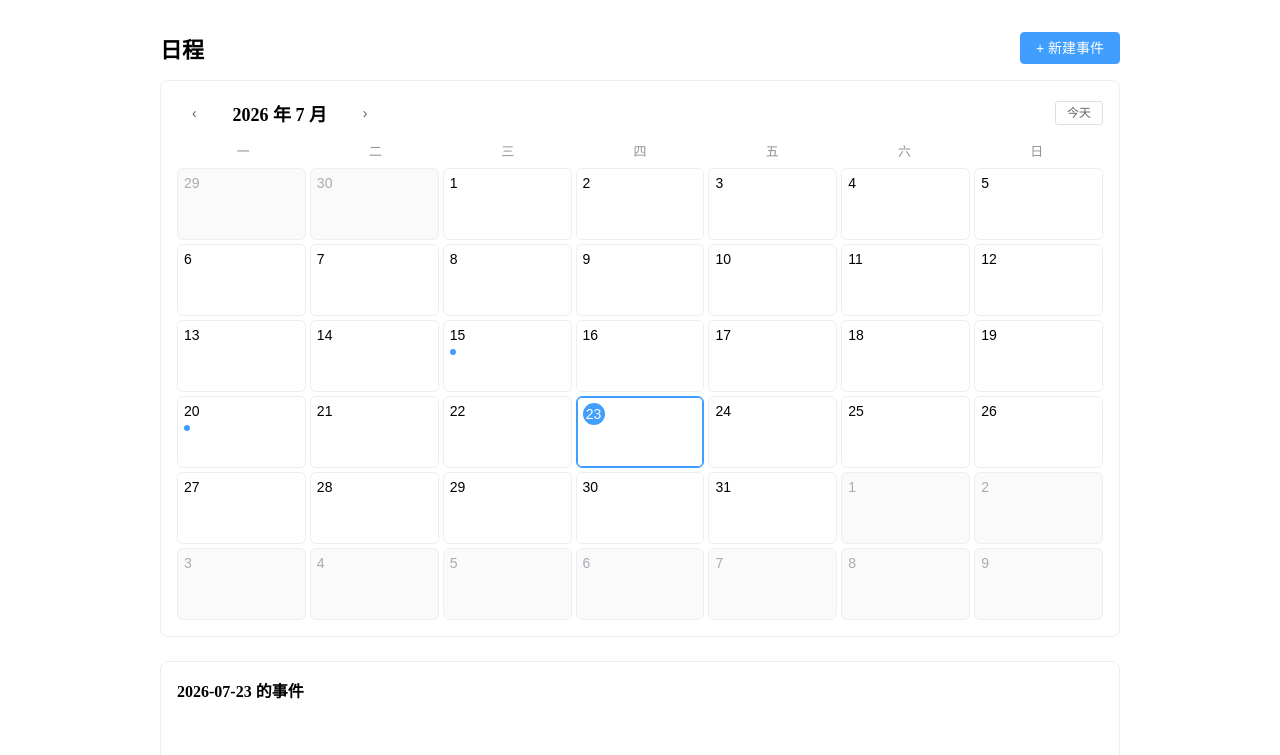
Scenario: PlanCalendarView / 选中日期与详情跳转 › 点击日历某天更新 selectedDate 并按日期筛选事件
This screenshot has width=1280, height=755.
Click the button "20".
click(241, 432)  # box [177,396,306,468]
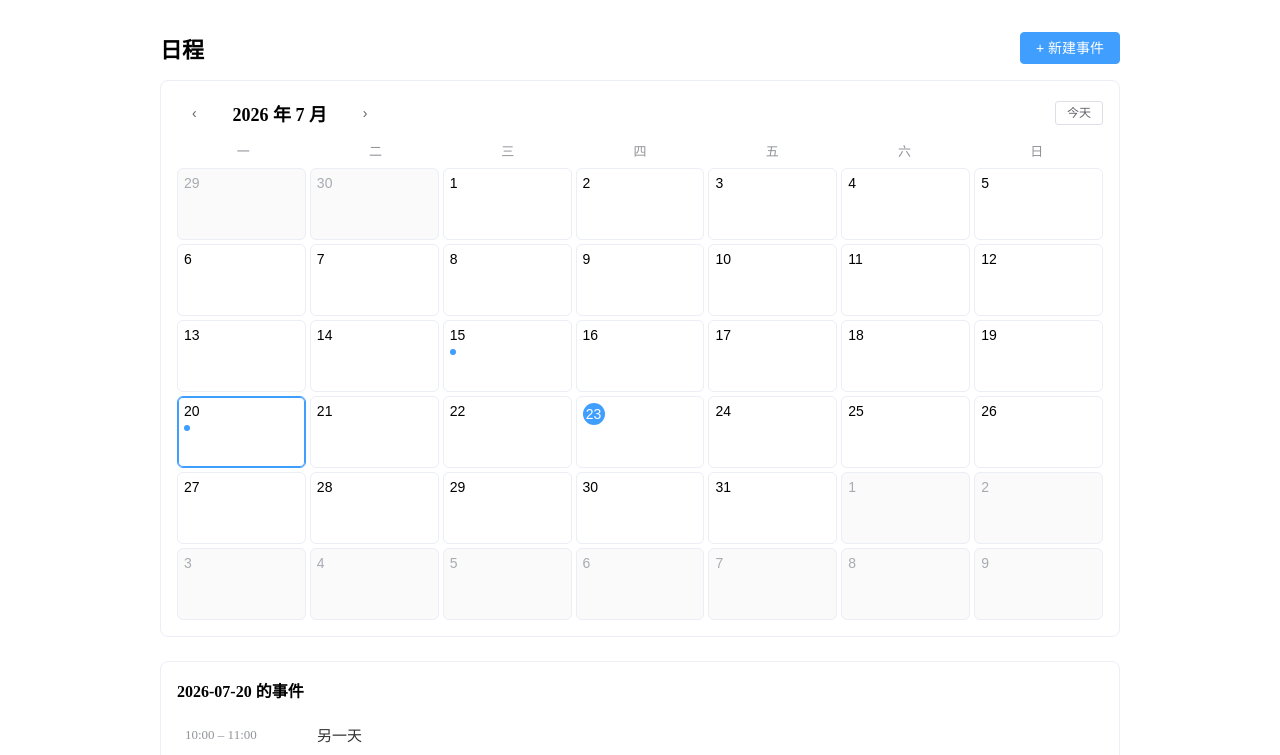
Expected: the list item with test id "event-row" shows "另一天", [317,728,362,744]
